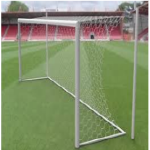goals: (16, 14, 127, 148)
